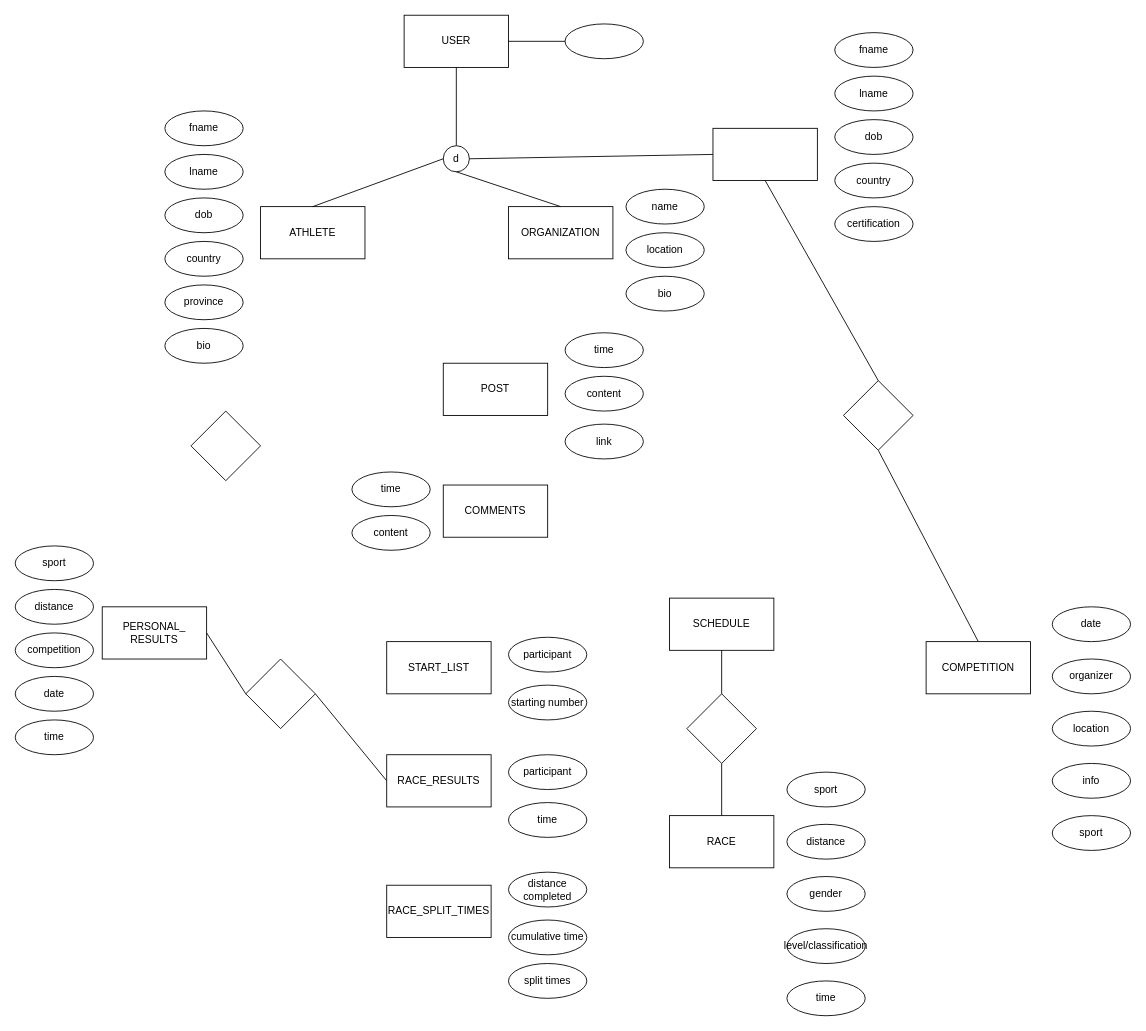
Image size: 1146x1031. Some labels were removed from this diagram. The centre of each missing label's shape, as x and y in pixels:
"CERTIFIES" goes at [878,415].
"CONSIST_OF" goes at [280,693].
"INCLUDES" goes at [721,728].
"OFFICIAL" goes at [764,154].
"RECORDS" goes at [225,445].
"username" goes at [603,41].
